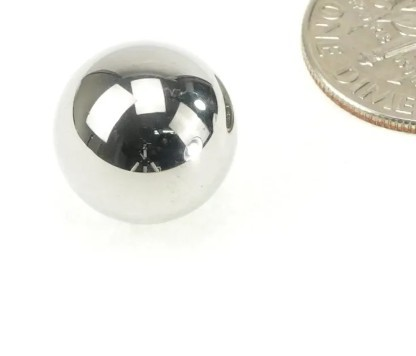ironball: (52, 39, 237, 225)
